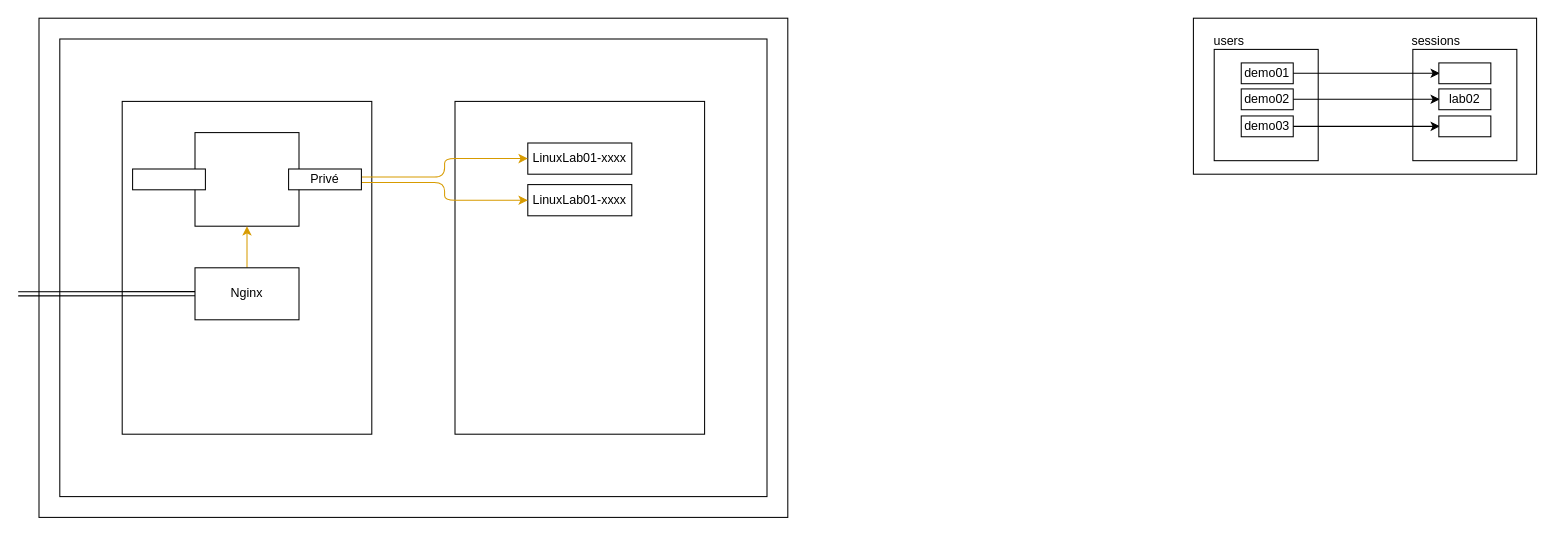
Image size: 1555x536. Some labels were removed from this diagram. The centre of each missing label's shape, as x and y in pixels:
"Guacamole" goes at (x=246, y=179).
"lab01" goes at (x=1464, y=73).
"lab03" goes at (x=1464, y=126).
"Publique" goes at (x=168, y=179).
